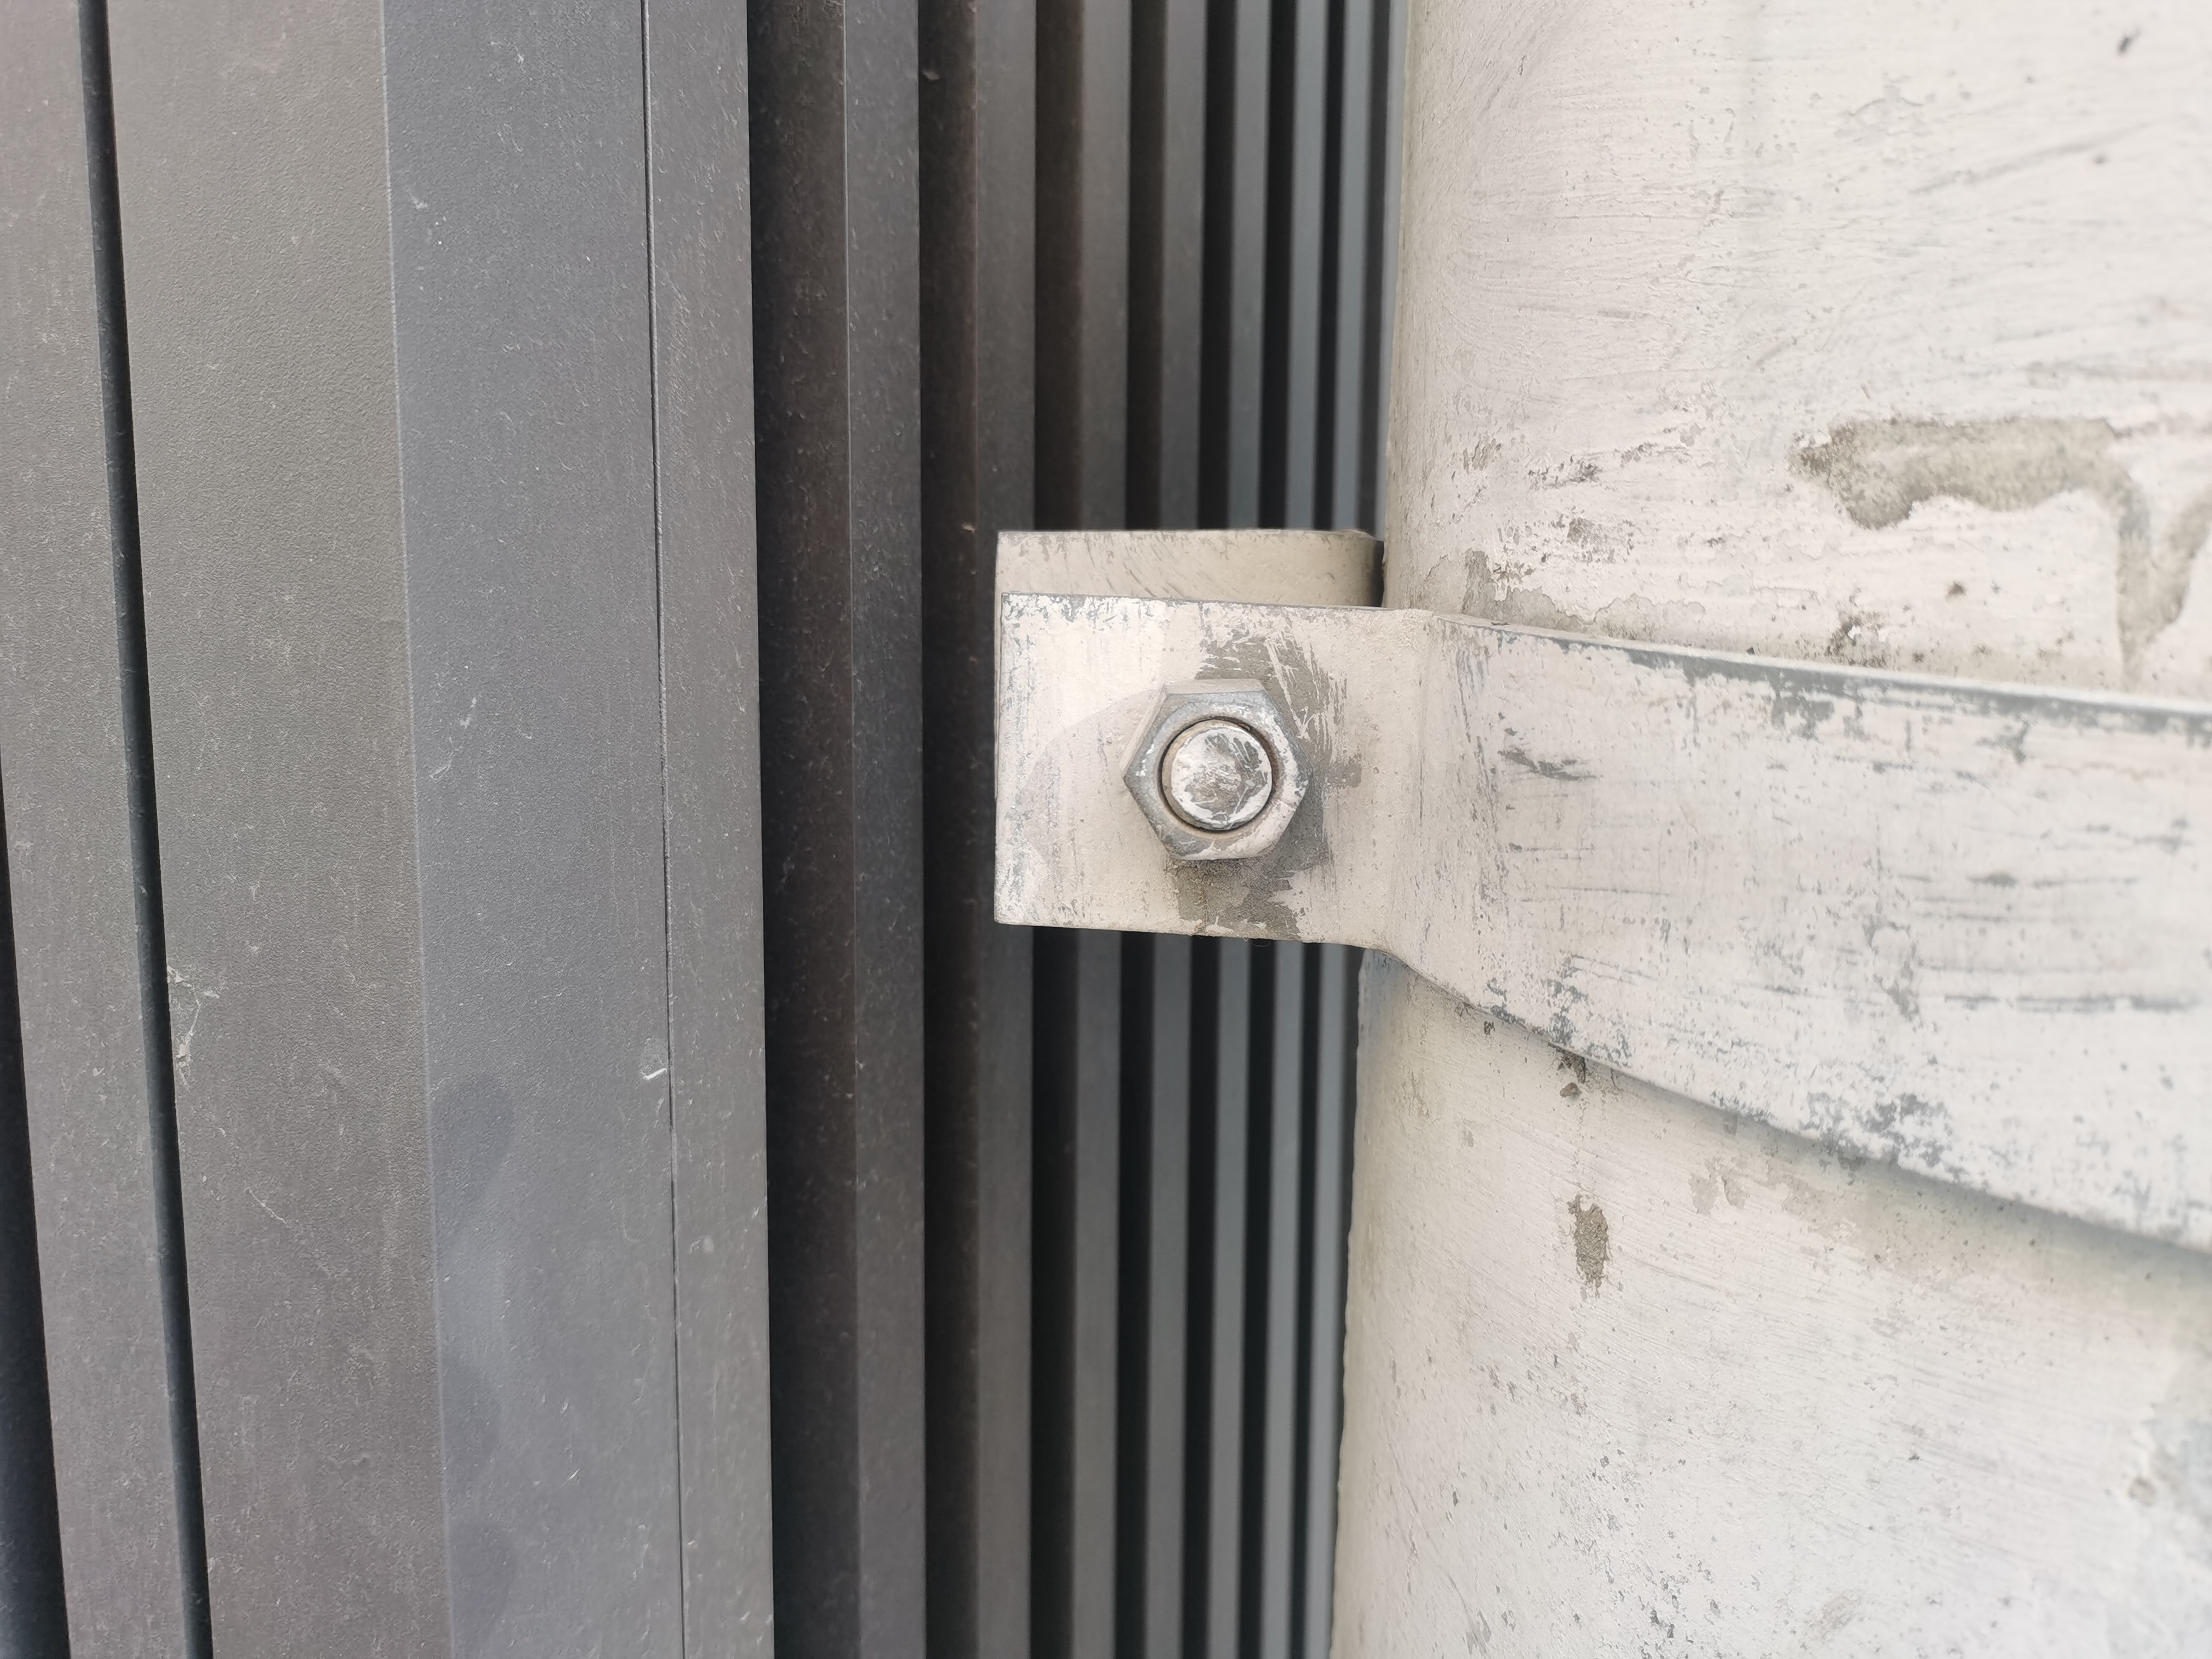bolt_b: (1111, 667, 1317, 871)
